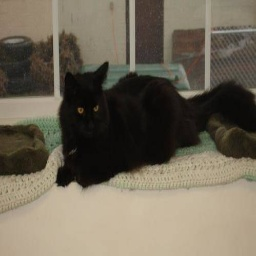cat: (38, 69, 227, 186)
